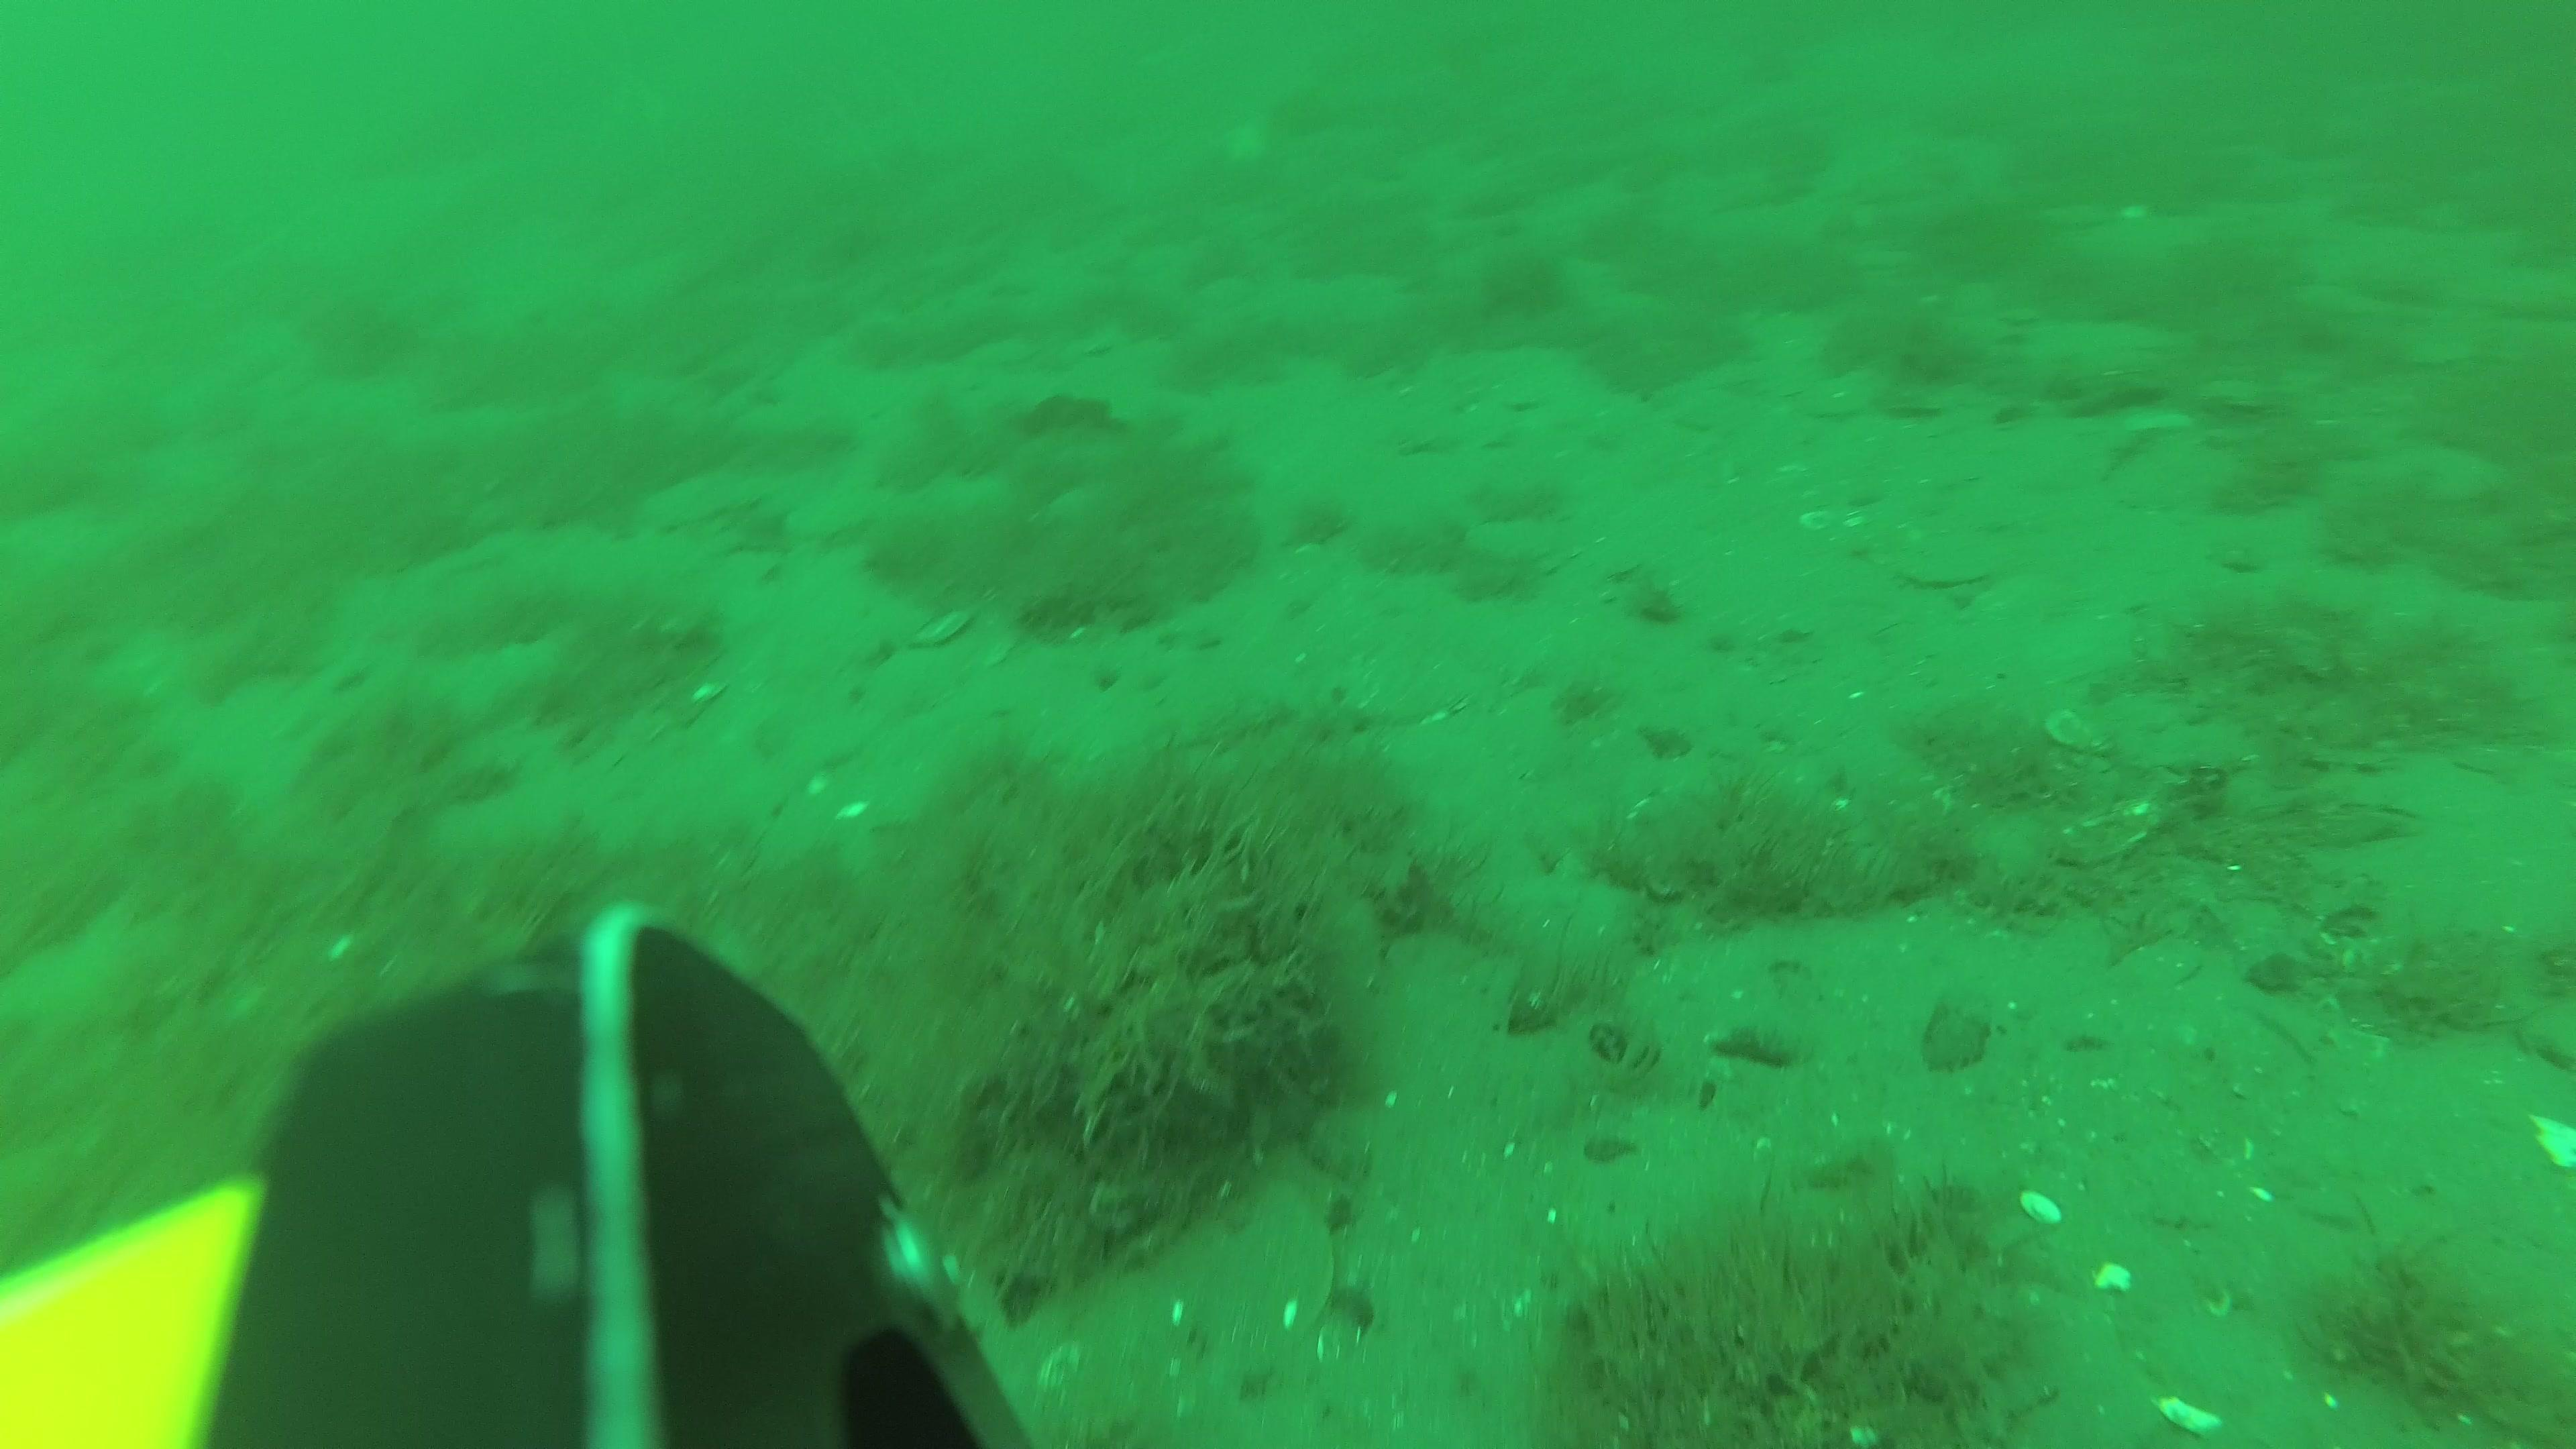scallop: (1194, 1182, 1330, 1376), (872, 653, 950, 713), (1909, 548, 1992, 596)
